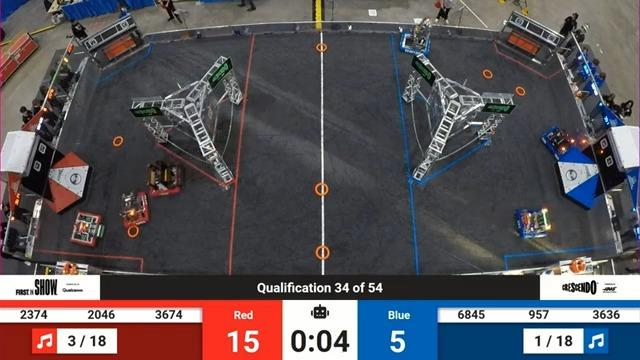robot: (388, 8, 438, 61), (61, 204, 114, 249), (140, 155, 188, 198), (506, 201, 552, 243), (111, 190, 154, 227), (539, 124, 577, 160)
